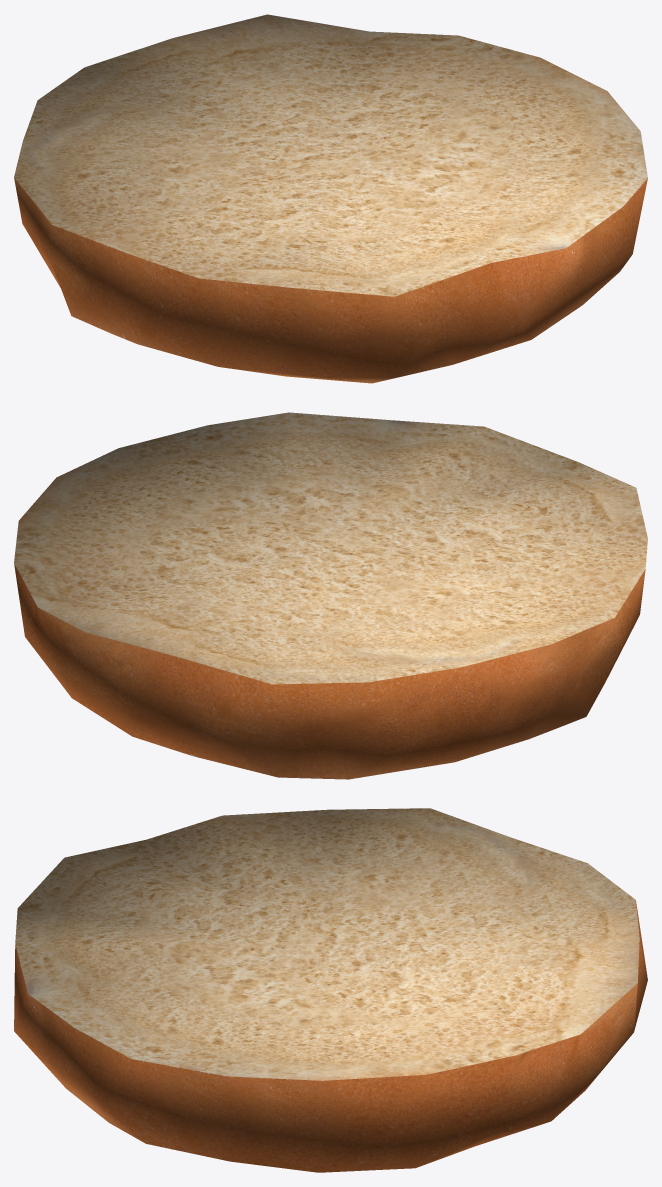
Rendered from Bun_Lower.fbx.
3 renders of one model, top to bottom at view 1: azimuth 30°, elevation 25°; view 2: azimuth 150°, elevation 25°; view 3: azimuth 270°, elevation 25°, orthographic.
Visible parts, largest first — view 1: Bun_Lower; view 2: Bun_Lower; view 3: Bun_Lower.
Part boxes in pixels (left/top/right/bottom): Bun_Lower: left=14, top=14, right=647, bottom=383; Bun_Lower: left=14, top=412, right=647, bottom=779; Bun_Lower: left=14, top=808, right=647, bottom=1172.
Size of the model in its own units: 9.66 by 2.24 by 9.5.
